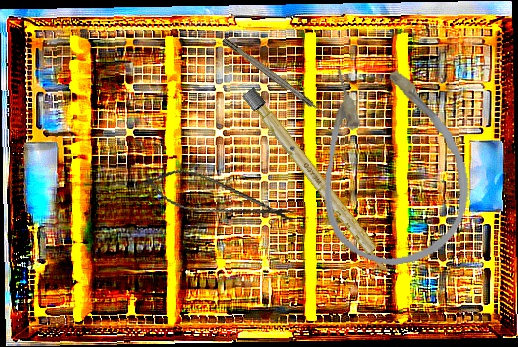Cannula: (299, 47, 482, 276)
Hook Surgical: (222, 36, 331, 121)
Micro Scissor: (137, 161, 300, 234)
Scalpel Handle: (241, 87, 395, 276)
